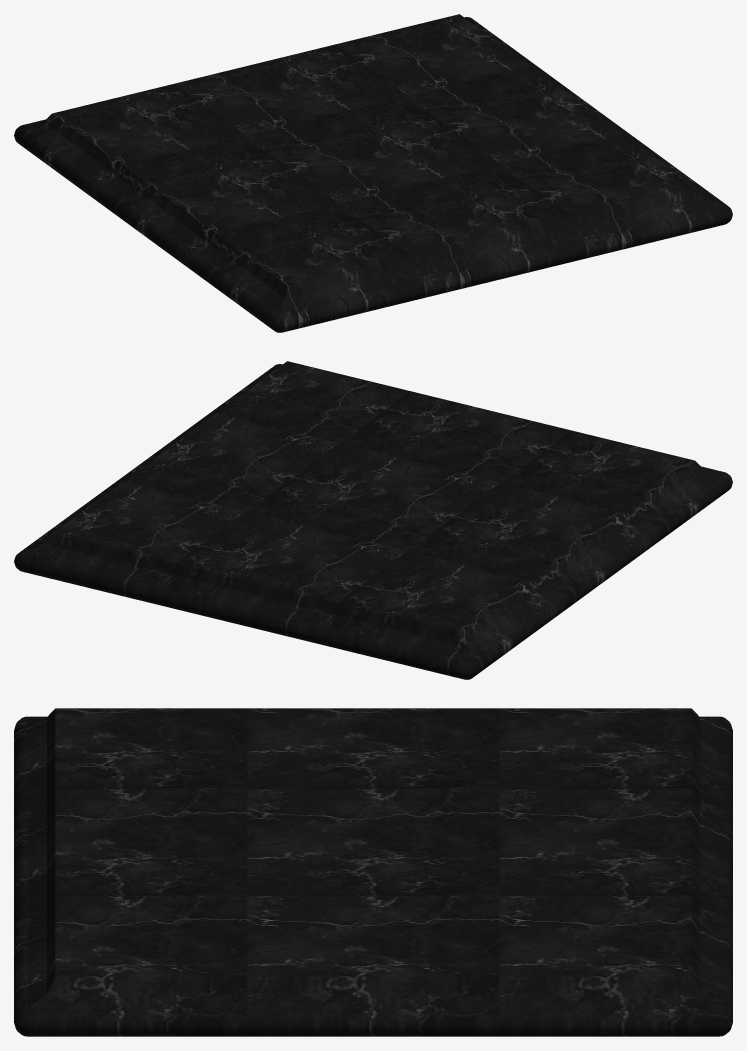
Rendered from board_bottom2.glb.
3 renders of one model, top to bottom at view 1: azimuth 30°, elevation 25°; view 2: azimuth 150°, elevation 25°; view 3: azimuth 270°, elevation 25°, orthographic. The views are drawn at different scales.
Visible parts, largest first — view 1: ChamferBox001; view 2: ChamferBox001; view 3: ChamferBox001.
Part boxes in pixels (<box>): ChamferBox001: <box>14,14,732,332</box>; ChamferBox001: <box>14,361,732,679</box>; ChamferBox001: <box>14,708,732,1036</box>.
Size of the model in its own units: 17.78 by 1.27 by 17.78.
Materials: 1 (1 with a texture image).
